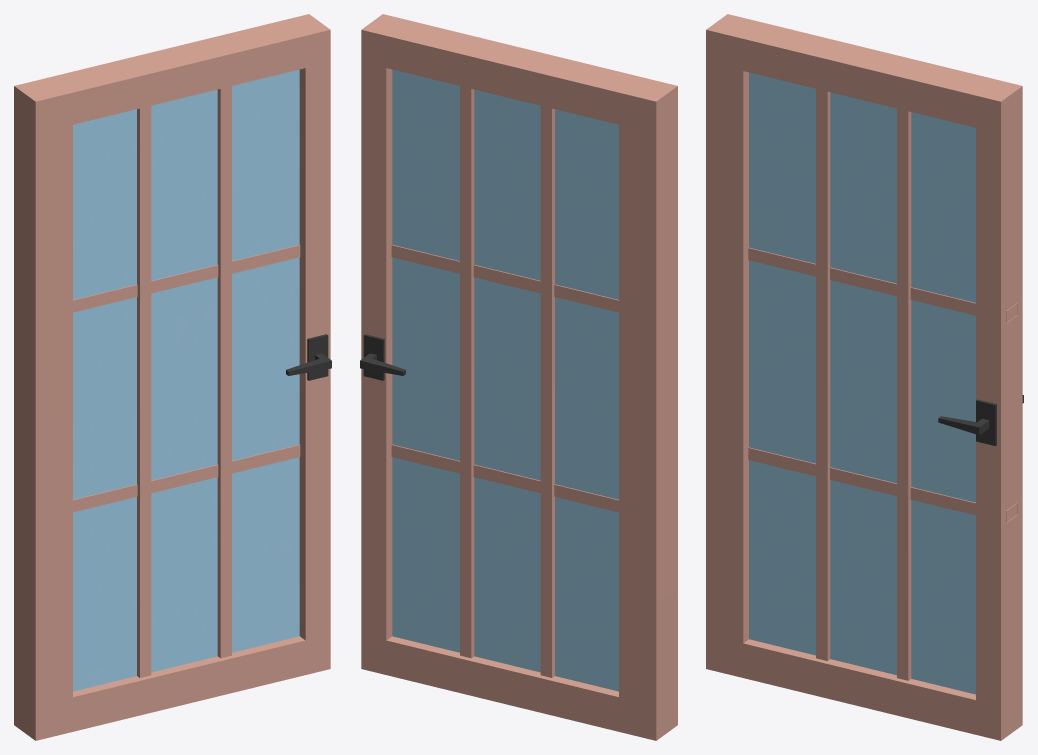
File: door_015.fbx
3 views of the same model, side by side, from view 1: azimuth 30°, elevation 25°; view 2: azimuth 150°, elevation 25°; view 3: azimuth 330°, elevation 25° (orthographic).
Visible parts, largest first — view 1: door_015; view 2: door_015; view 3: door_015.
Part boxes in pixels (x1,y1,x2,y2): door_015: [14, 14, 331, 740]; door_015: [360, 14, 677, 740]; door_015: [706, 14, 1023, 740].
Bounding box in the file's own units: 110 × 28.59 × 227.
